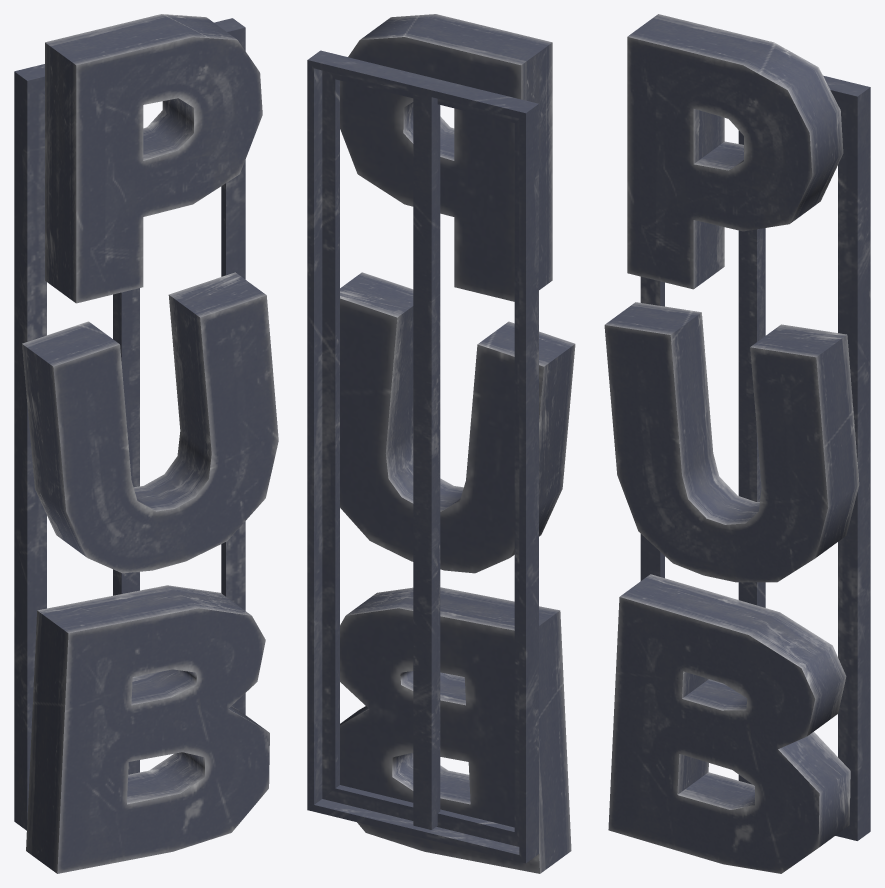
The model's file is Pub2_LOD1.fbx.
3 renders of one model, left to right at view 1: azimuth 30°, elevation 25°; view 2: azimuth 150°, elevation 25°; view 3: azimuth 330°, elevation 25°, orthographic.
Visible parts, largest first — view 1: polySurface259; view 2: polySurface259; view 3: polySurface259.
Part boxes in pixels (x1,y1,x2,y2): polySurface259: [14, 14, 278, 873]; polySurface259: [307, 14, 575, 873]; polySurface259: [604, 14, 870, 873].
Size of the model in its own units: 82.56 by 284 by 28.14.
1 material, 1 textured.
